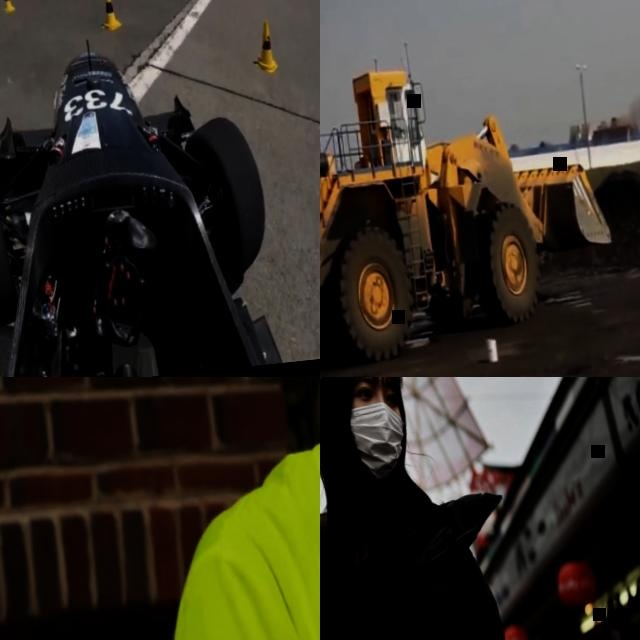Mask: (346, 401, 412, 483)
NO-Safety Vest: (220, 405, 320, 640), (320, 512, 489, 640)
Person: (320, 377, 560, 640), (92, 377, 320, 640)
Safety Cone: (250, 16, 278, 76), (96, 0, 123, 33), (0, 0, 15, 15)
machinery: (320, 38, 621, 377)
vehicle: (0, 22, 282, 377)
